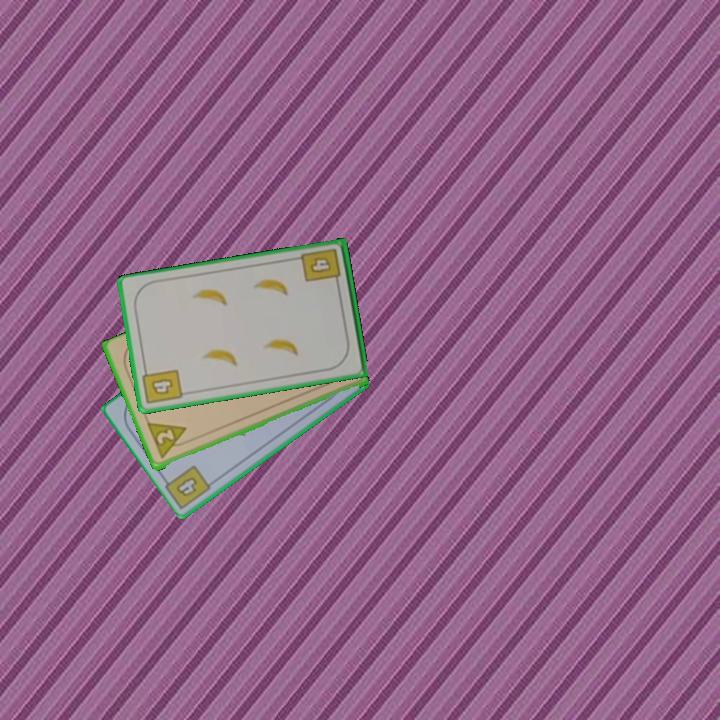2p: (144, 419, 193, 463)
4b: (298, 245, 344, 289), (139, 364, 185, 407), (172, 473, 200, 500)
